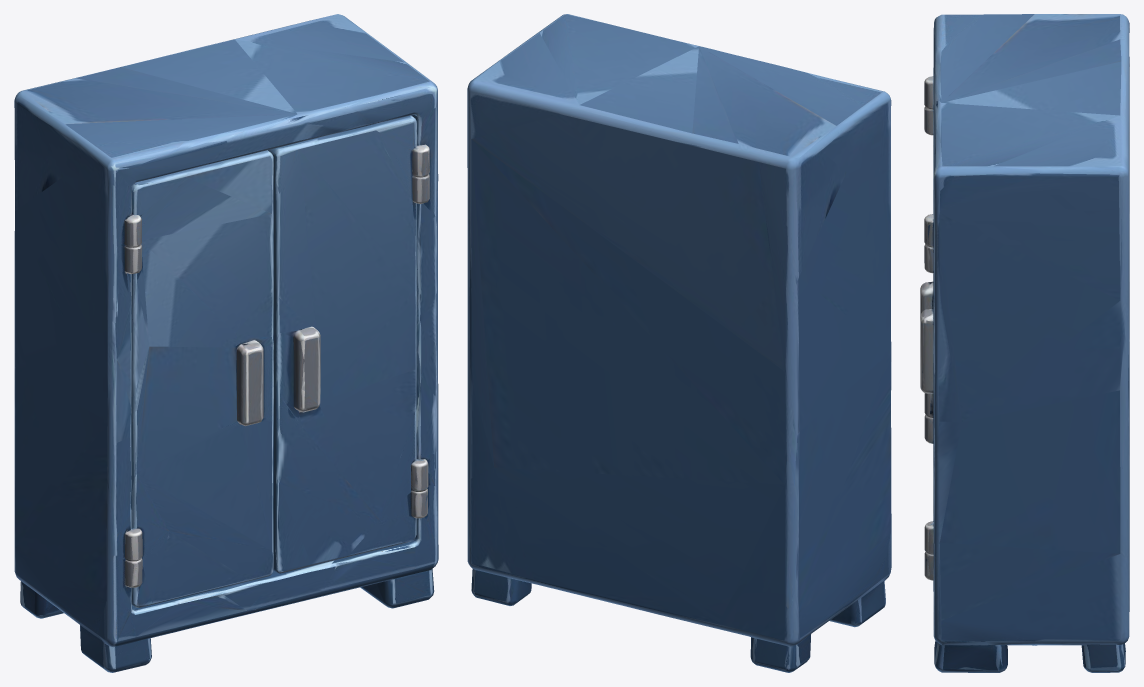
File: cabinet.glb
The picture shows the model from 3 angles, left to right: view 1: azimuth 30°, elevation 25°; view 2: azimuth 150°, elevation 25°; view 3: azimuth 270°, elevation 25°; orthographic projection. The views are drawn at different scales.
Visible parts, largest first — view 1: cabinet; view 2: cabinet; view 3: cabinet.
Part boxes in pixels (bbox=[...]): cabinet: bbox=[14, 14, 438, 672]; cabinet: bbox=[467, 14, 891, 672]; cabinet: bbox=[920, 14, 1129, 672].
Bounding box in the file's own units: 0.6687 × 0.9994 × 0.3727.
Materials: 1 (1 with a texture image).
